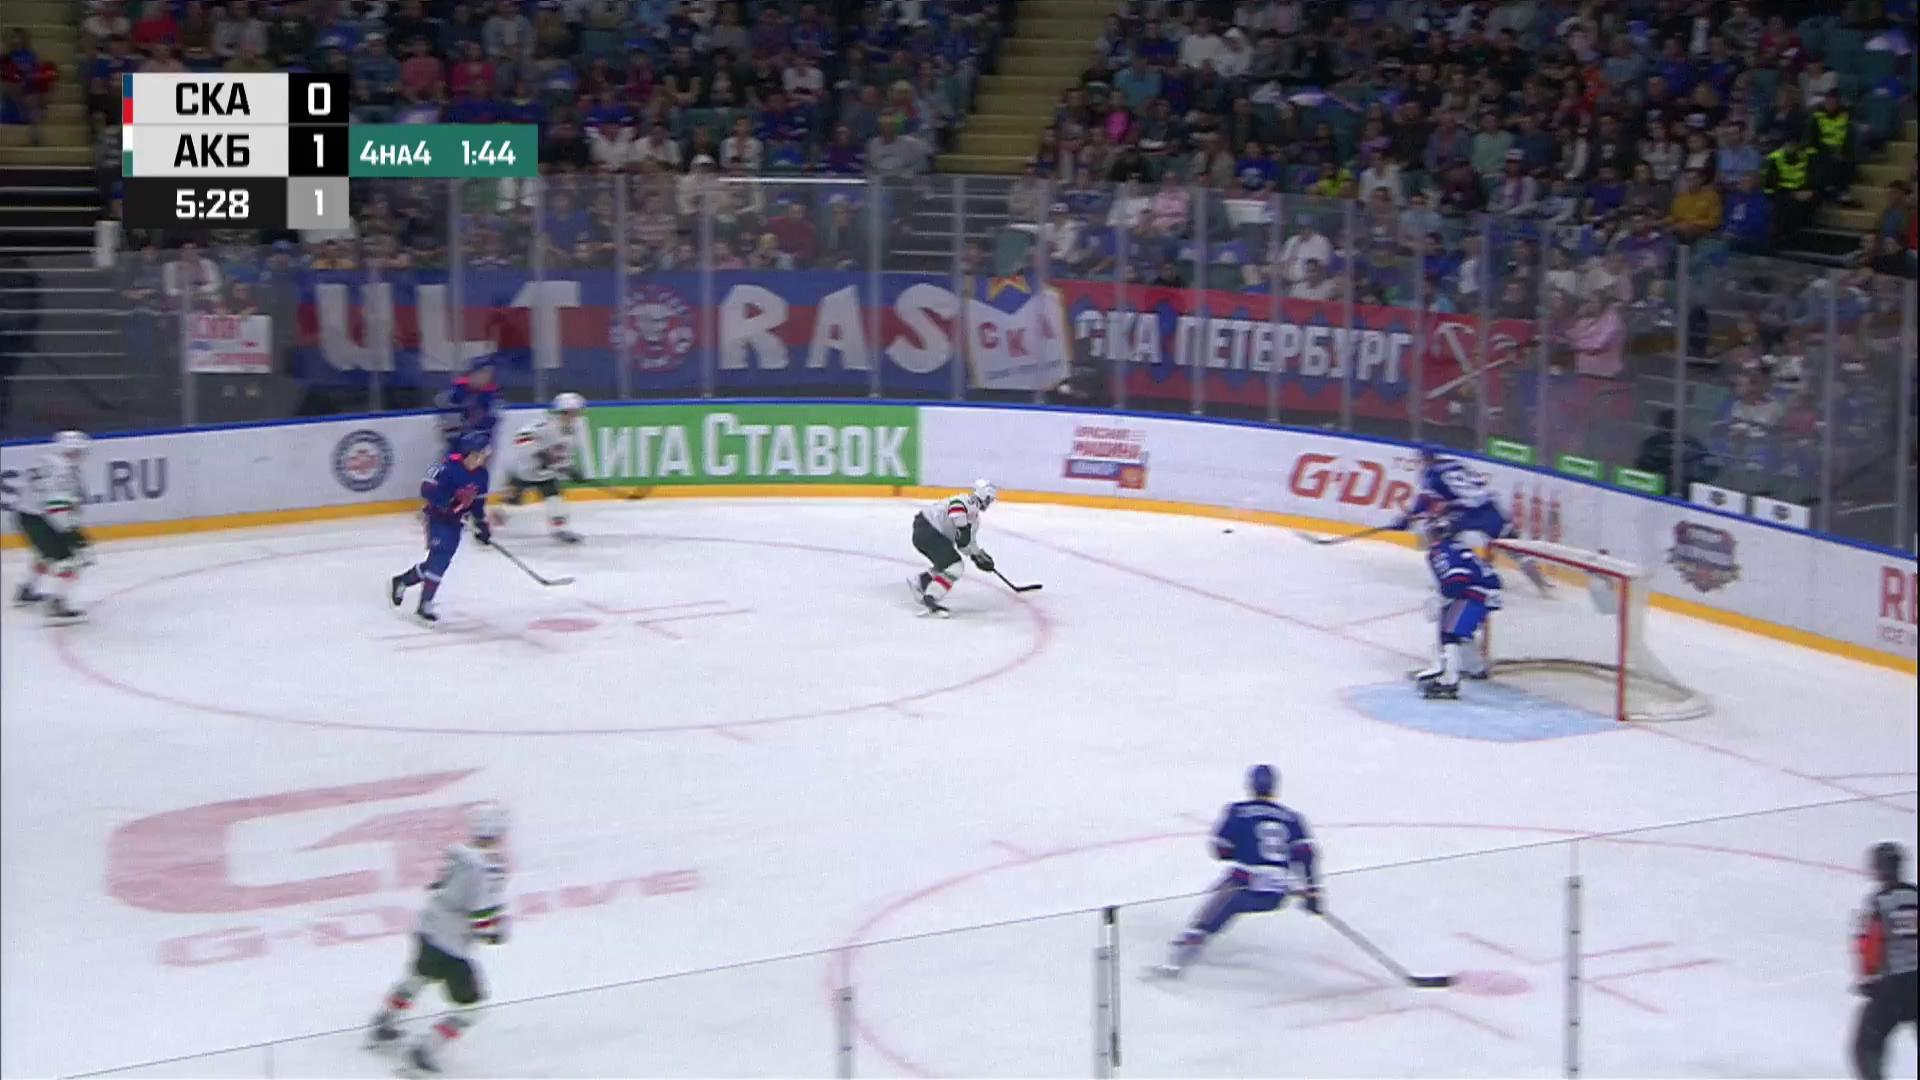ball: (1222, 529, 1234, 534)
